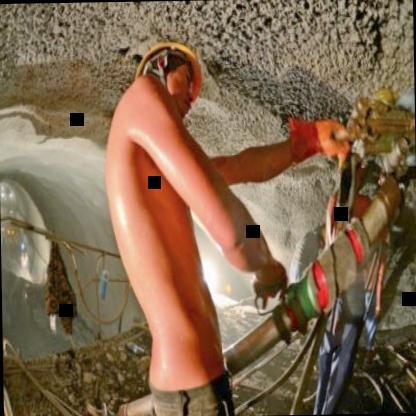helmet: (128, 28, 222, 109)
